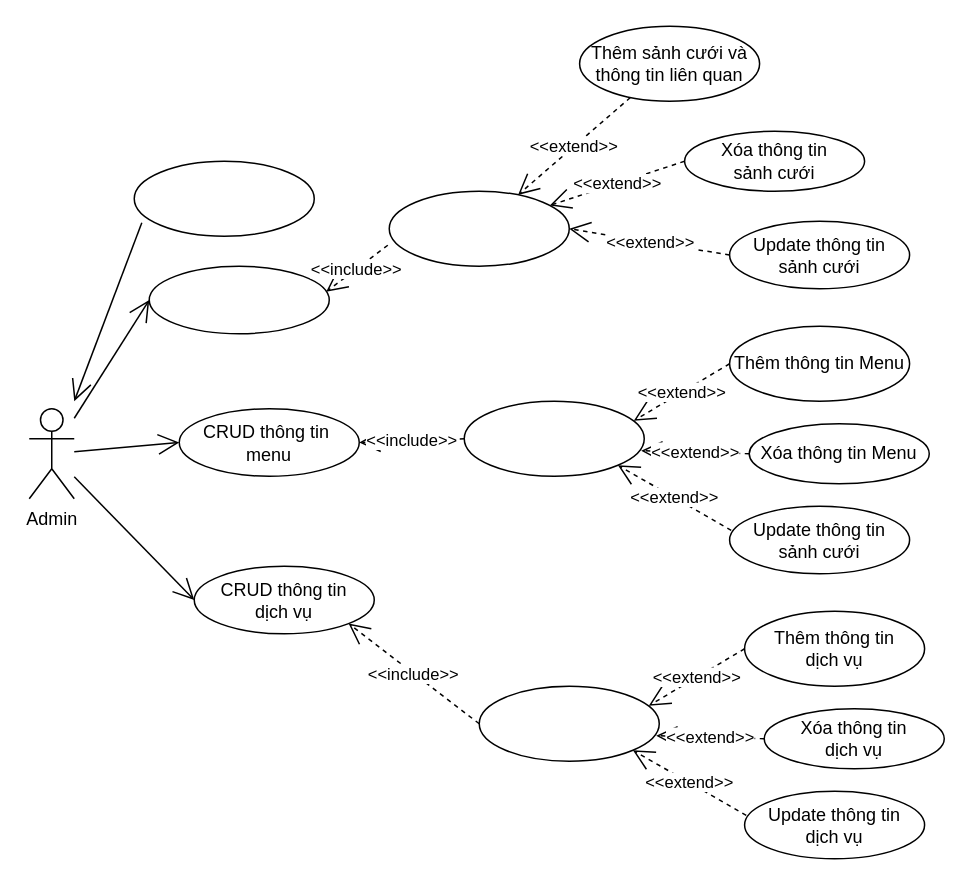
Some shapes in this 971 by 885 pixel diagram are drawn without their labels. Each missing label, with the centre of its shape:
CRUD thông tin sảnh cưới: point (238, 299)
Gửi thông tin đặt tiệc: point (223, 198)
Hiển thị danh sách dịch vụ: point (568, 723)
Hiển thị danh sách Menu: point (553, 438)
Hiển thị danh sách sảnh cưới: point (478, 228)
